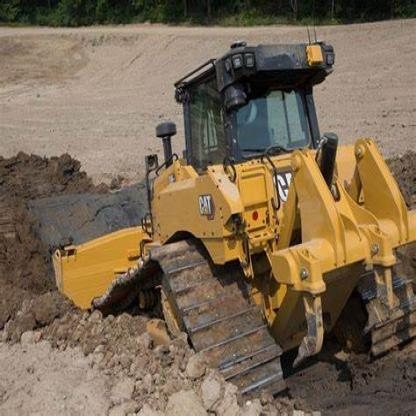bull_dozer/loader/grader: (37, 36, 414, 397)
